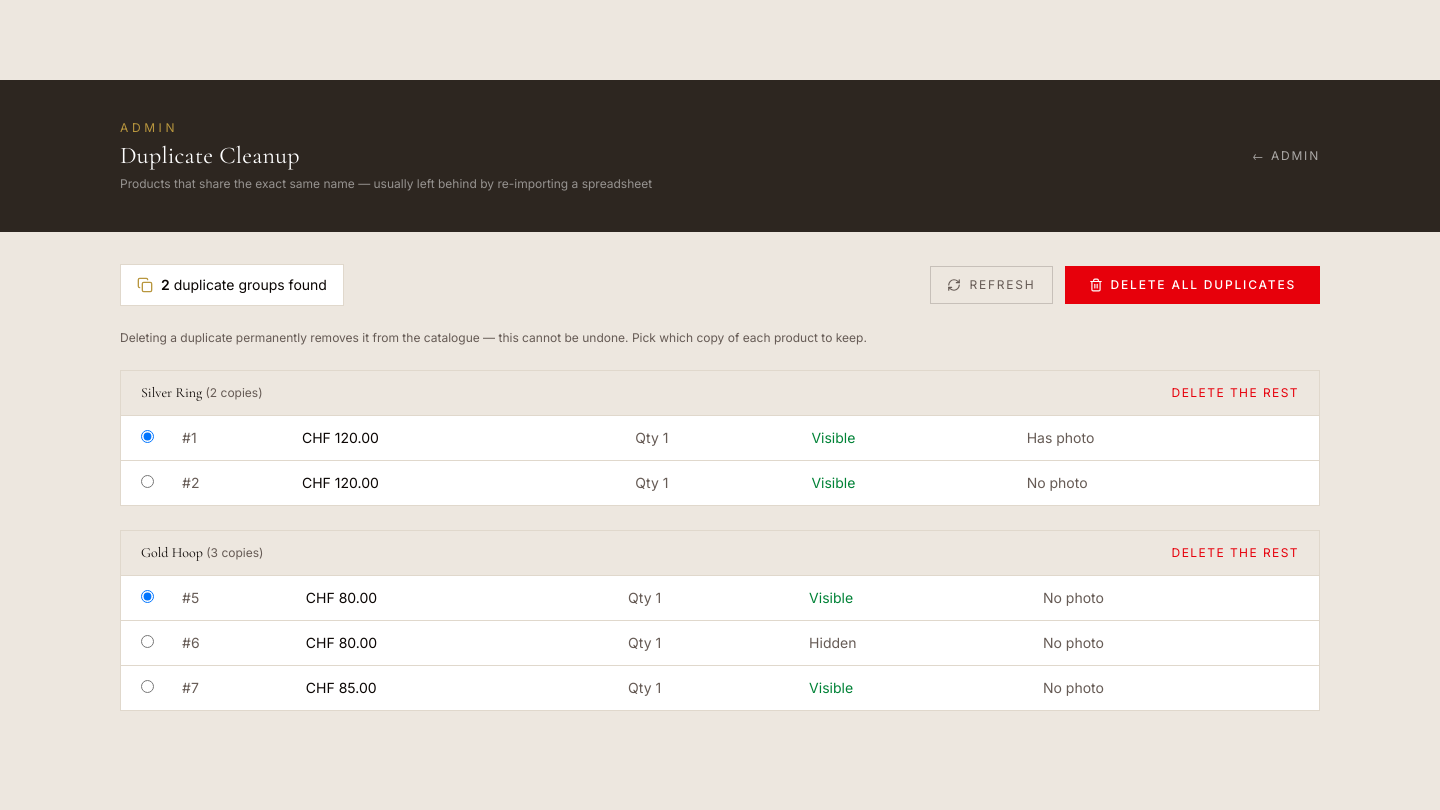
Scenario: DuplicateCleanup: confirm-and-merge flow › respects a changed radio selection when building the dialog
This screenshot has width=1440, height=810.
Keep #2 instead of the suggested #1 — so #1 becomes the deletion.
Click the 2nd radio button. click: (148,482)
box: [141, 475, 154, 488]
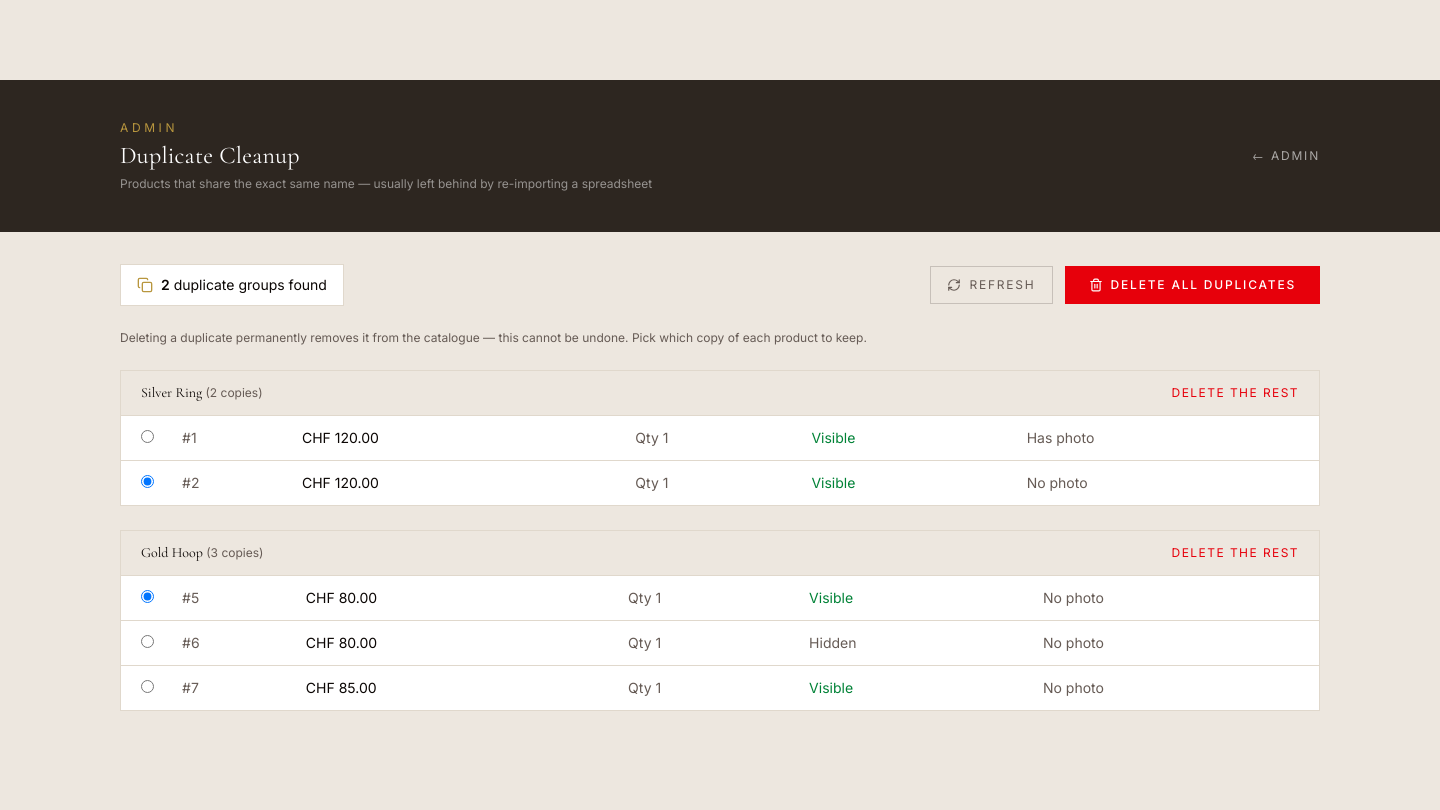
Click the button "Delete the rest" in the row of "(2 copies)". click: (1235,393)
box: [1172, 385, 1299, 401]
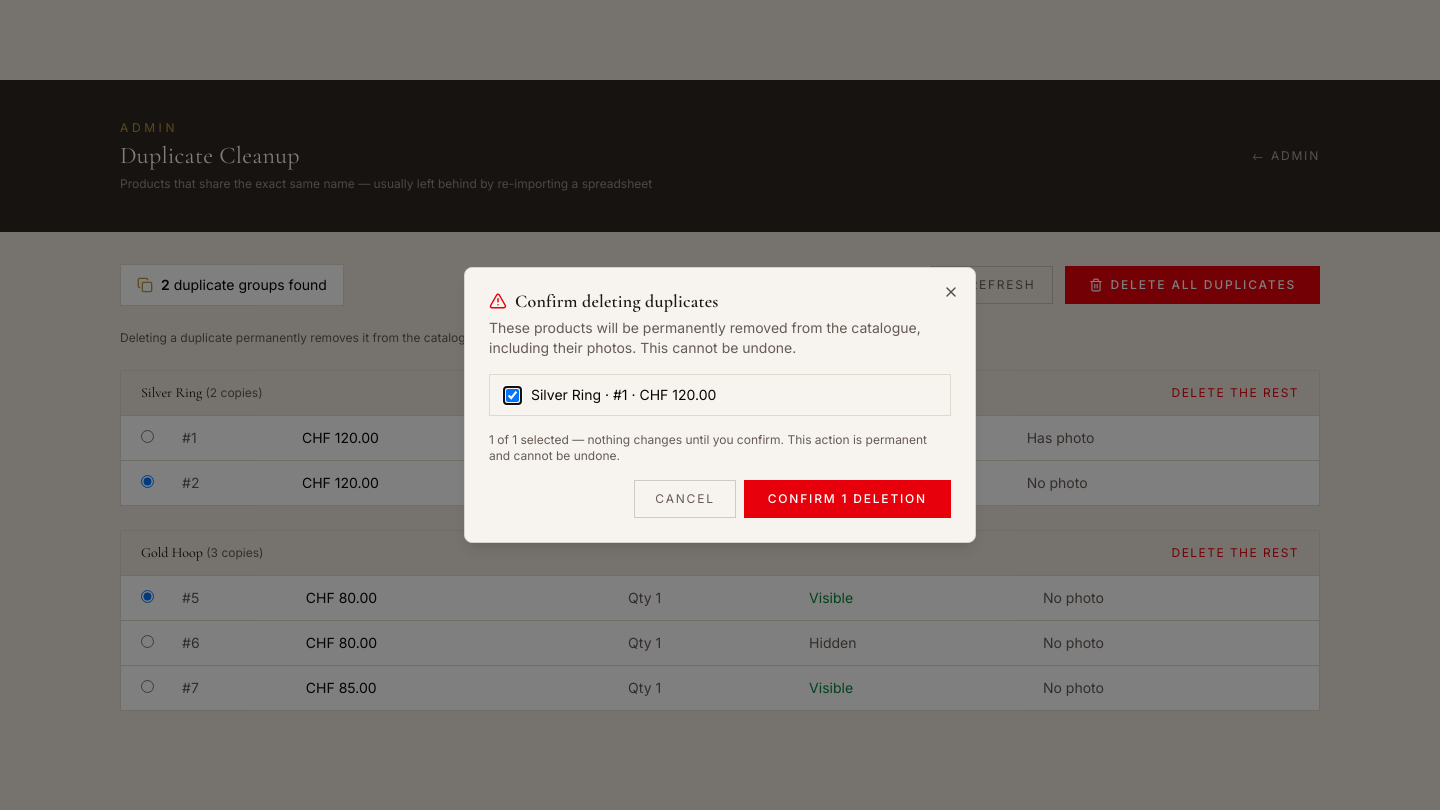
Expected: the text "Silver Ring · #1 · CHF 120.00" is shown, [531, 385, 716, 405]
